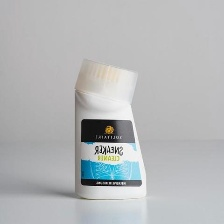cleaning_solution: (70, 49, 151, 201)
